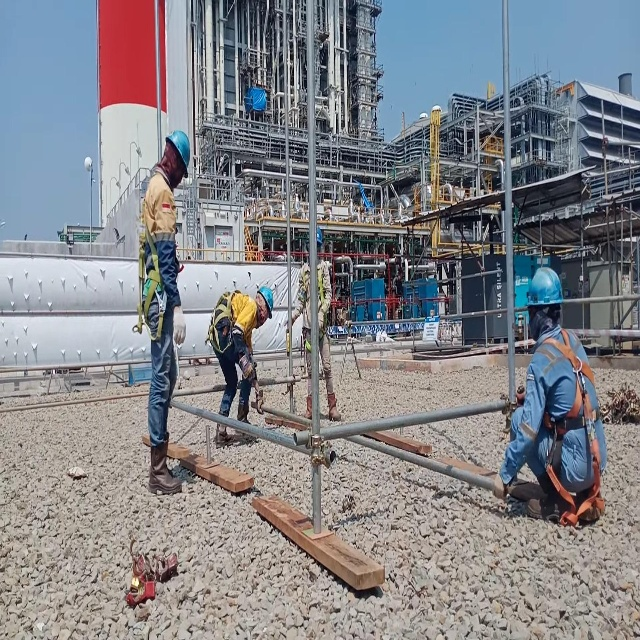Arnes_seguridad: (539, 329, 606, 527), (132, 190, 168, 345), (300, 260, 330, 354), (206, 284, 243, 354)
